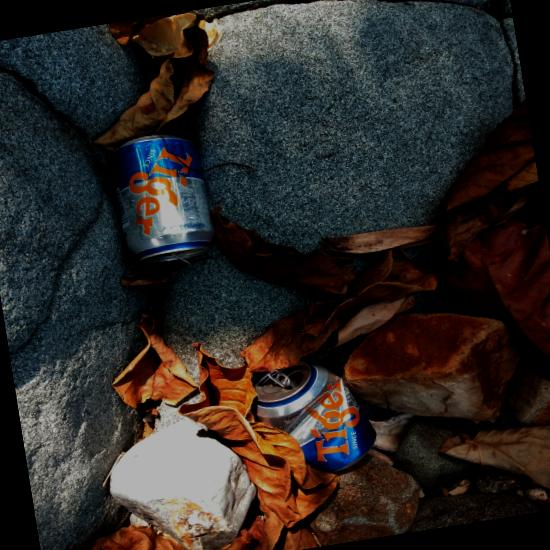Drink can: (252, 360, 376, 472), (108, 134, 215, 263)
Pop tab: (268, 368, 290, 387), (168, 252, 192, 264)
